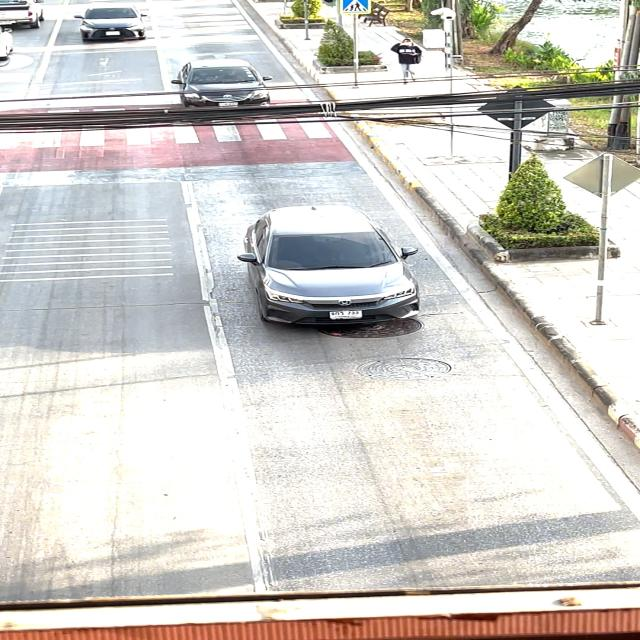car: (193, 192, 452, 351), (137, 56, 272, 116), (72, 7, 153, 49)
